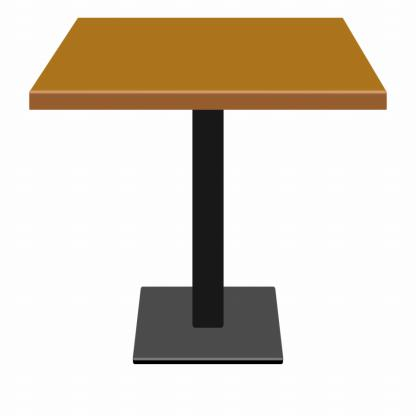table: (29, 18, 386, 362)
